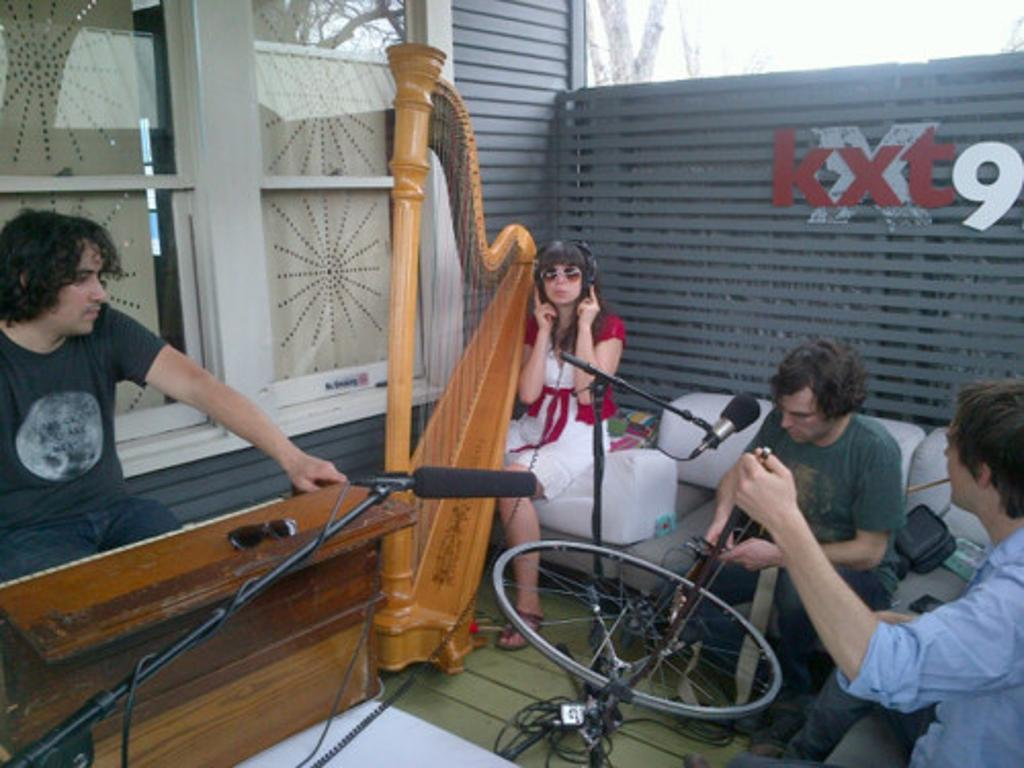face: (39, 243, 103, 334), (943, 427, 978, 507), (778, 391, 826, 443), (542, 266, 581, 303)
